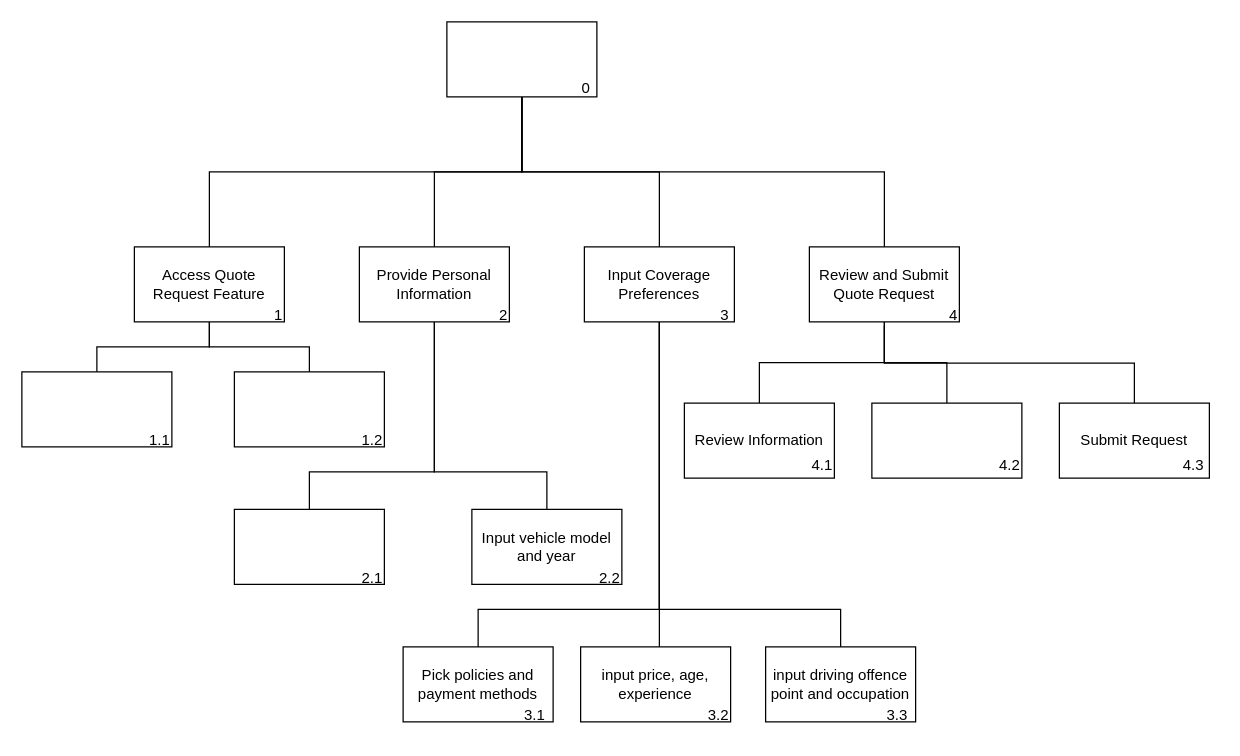
This 1240x756 diagram has some shape labels left out. The box of each missing label's shape, as (x1, y1, x2, y2) in pixels:
Confirm Terms and Conditions: (871, 402, 1022, 478)
Input name, email: (233, 508, 384, 584)
Navigate to Insurance Section: (21, 371, 172, 447)
Request An Insurance Quote: (446, 21, 597, 97)
Select an Insurance coverage option: (233, 371, 384, 447)
